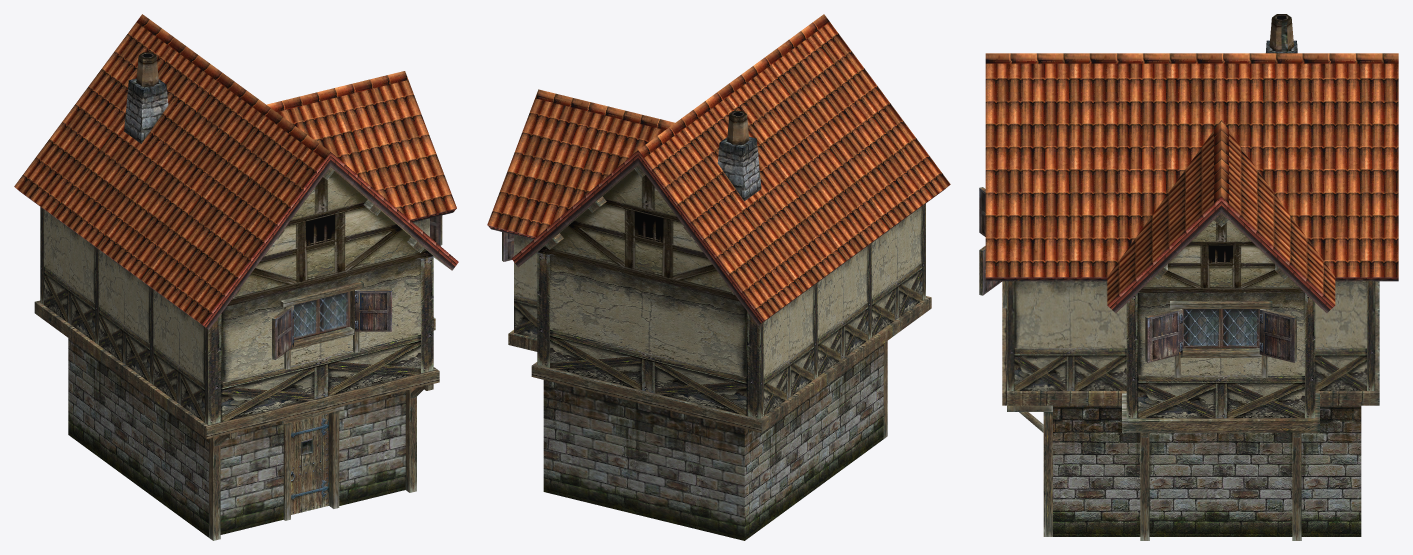
The model's file is MHOUSE2.glb.
The picture shows the model from 3 angles, left to right: view 1: azimuth 30°, elevation 25°; view 2: azimuth 150°, elevation 25°; view 3: azimuth 270°, elevation 25°; orthographic projection. The views are drawn at different scales.
Visible parts, largest first — view 1: MHOUSE2; view 2: MHOUSE2; view 3: MHOUSE2.
Boxes of the visible parts, x1,y1,x2,y2 form: MHOUSE2: (14,14,458,540); MHOUSE2: (487,14,950,540); MHOUSE2: (979,14,1398,540).
Bounding box in the file's own units: 8.63 × 10.39 × 9.11.
11 materials, 11 textured.
